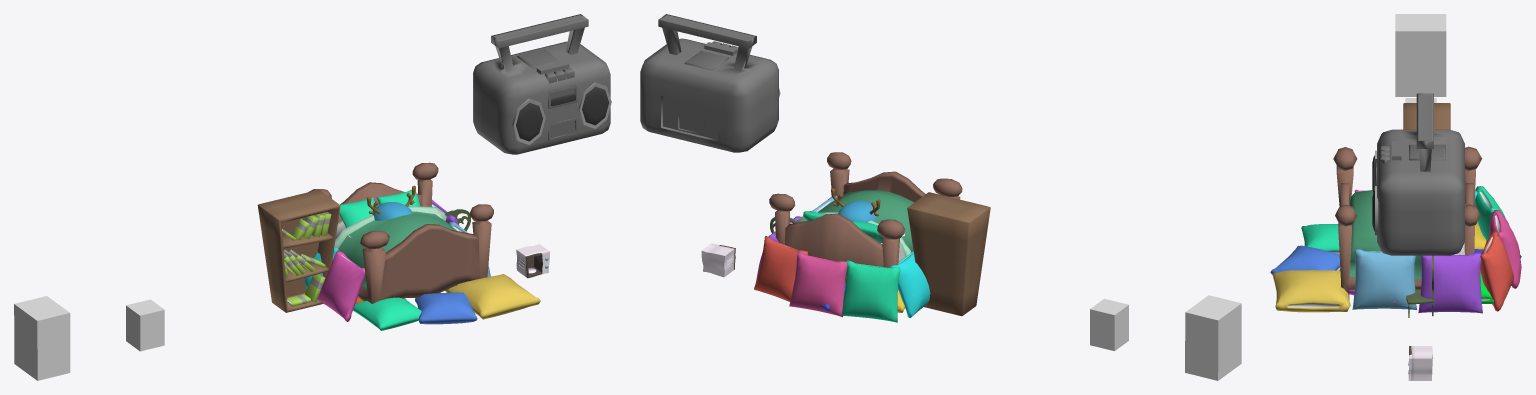
Rendered from props_lumi_re_de_plafond.fbx.
The picture shows the model from 3 angles, left to right: view 1: azimuth 30°, elevation 25°; view 2: azimuth 150°, elevation 25°; view 3: azimuth 270°, elevation 25°; orthographic projection. The views are drawn at different scales.
Visible parts, largest first — view 1: Cylinder.001, props_double_bed, props_double_bed_surrounded_by_pillows, Library, moyen vertical, petit vertical.001, Cube, body; view 2: Cylinder.001, props_double_bed_surrounded_by_pillows, props_double_bed, Library, moyen vertical, petit vertical.001, Cube, body; view 3: props_double_bed_surrounded_by_pillows, Cylinder.001, props_double_bed, moyen vertical, Cube, Library, garden_chair.
Part boxes in pixels (left/top/right/bottom): Cylinder.001: left=473, top=14, right=611, bottom=154; props_double_bed: left=308, top=162, right=493, bottom=303; props_double_bed_surrounded_by_pillows: left=305, top=196, right=540, bottom=330; Library: left=257, top=189, right=340, bottom=312; moyen vertical: left=14, top=296, right=70, bottom=380; petit vertical.001: left=126, top=299, right=164, bottom=351; Cube: left=516, top=244, right=549, bottom=278; body: left=367, top=185, right=415, bottom=220; Cylinder.001: left=640, top=14, right=780, bottom=152; props_double_bed_surrounded_by_pillows: left=754, top=169, right=930, bottom=322; props_double_bed: left=769, top=152, right=962, bottom=289; Library: left=907, top=192, right=990, bottom=316; moyen vertical: left=1185, top=295, right=1241, bottom=380; petit vertical.001: left=1090, top=298, right=1128, bottom=351; Cube: left=701, top=242, right=735, bottom=277; body: left=831, top=188, right=880, bottom=222; props_double_bed_surrounded_by_pillows: left=1270, top=186, right=1521, bottom=313; Cylinder.001: left=1372, top=93, right=1464, bottom=255; props_double_bed: left=1333, top=146, right=1481, bottom=300; moyen vertical: left=1395, top=14, right=1446, bottom=96; Cube: left=1408, top=346, right=1432, bottom=380; Library: left=1403, top=103, right=1450, bottom=129; garden_chair: left=1406, top=255, right=1434, bottom=317.
Bounding box in the file's own units: 1637 × 571 × 659.
